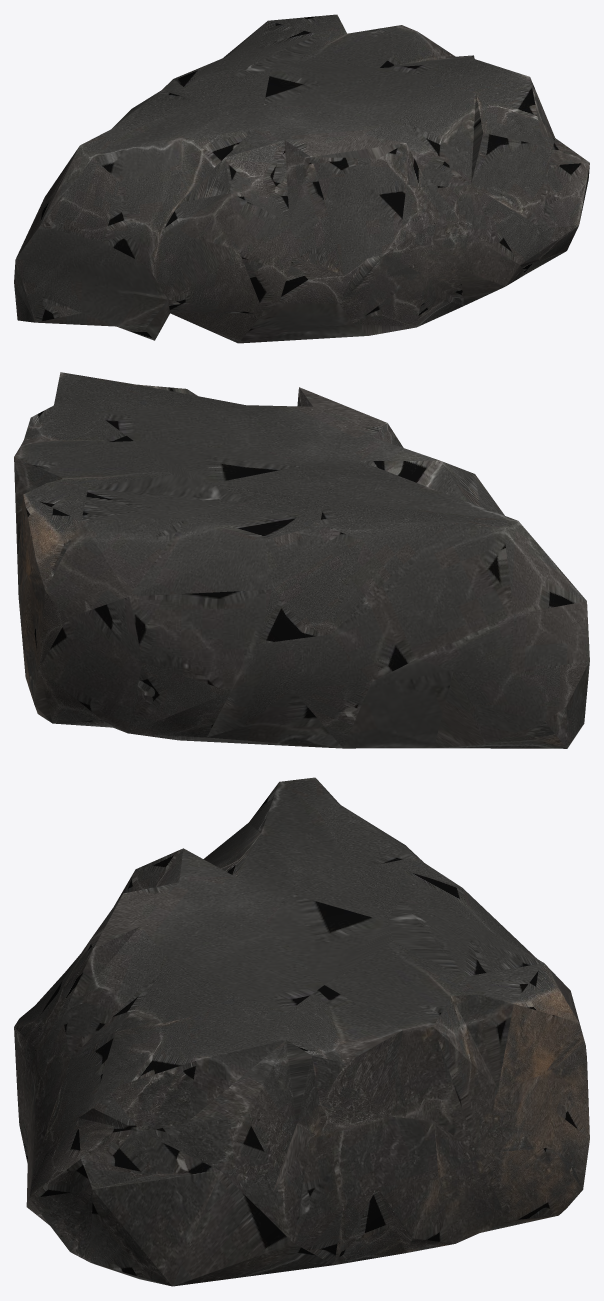
Rendered from co_basalt_block_lod1.glb.
3 views of the same model, one above another, from view 1: azimuth 30°, elevation 25°; view 2: azimuth 150°, elevation 25°; view 3: azimuth 270°, elevation 25° (orthographic). The views are drawn at different scales.
Parts seen in each view (by area): view 1: output_unwrapped; view 2: output_unwrapped; view 3: output_unwrapped.
Part boxes in pixels (x1=…): output_unwrapped: x1=14, y1=14, x2=589, y2=343; output_unwrapped: x1=14, y1=372, x2=589, y2=748; output_unwrapped: x1=14, y1=777, x2=589, y2=1286.
Size of the model in its own units: 1.85 by 0.6042 by 1.3.
1 material, 1 textured.
